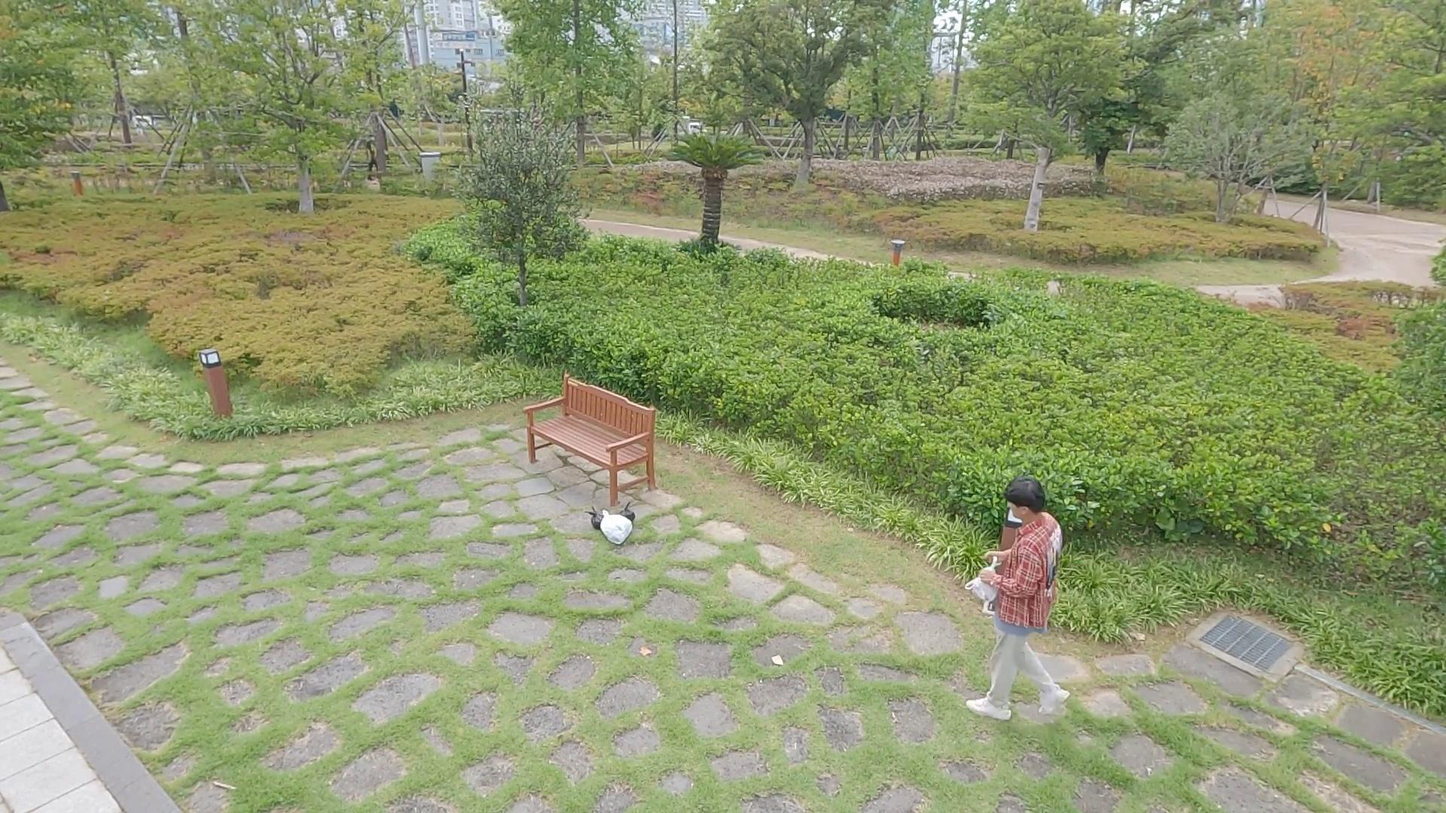person: (963, 477, 1073, 725)
trash: (963, 557, 1003, 603), (597, 507, 633, 546), (614, 500, 637, 531), (583, 505, 607, 528)
